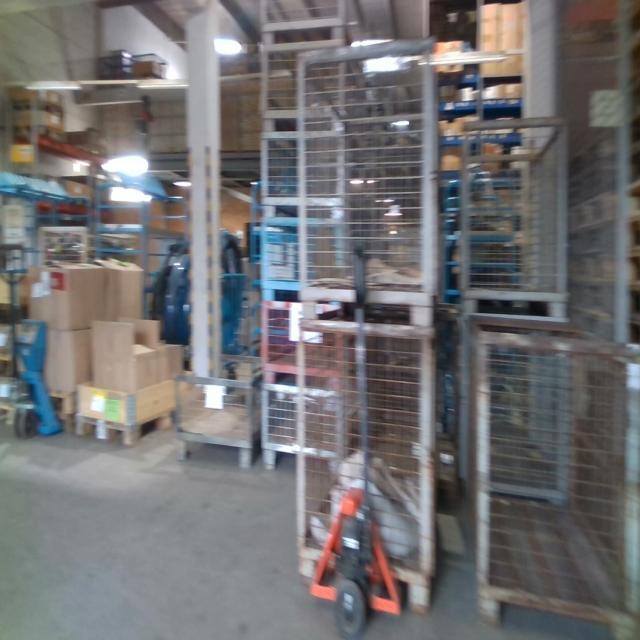pallet: (72, 409, 175, 450)
pallet_truck: (293, 237, 426, 633), (2, 227, 66, 448)
stillage: (478, 336, 636, 624), (296, 312, 436, 613), (299, 46, 437, 326), (456, 110, 569, 325), (171, 355, 271, 473), (258, 379, 361, 474), (254, 213, 363, 300), (257, 40, 367, 123), (258, 128, 361, 216), (254, 293, 353, 383), (259, 1, 359, 42)
